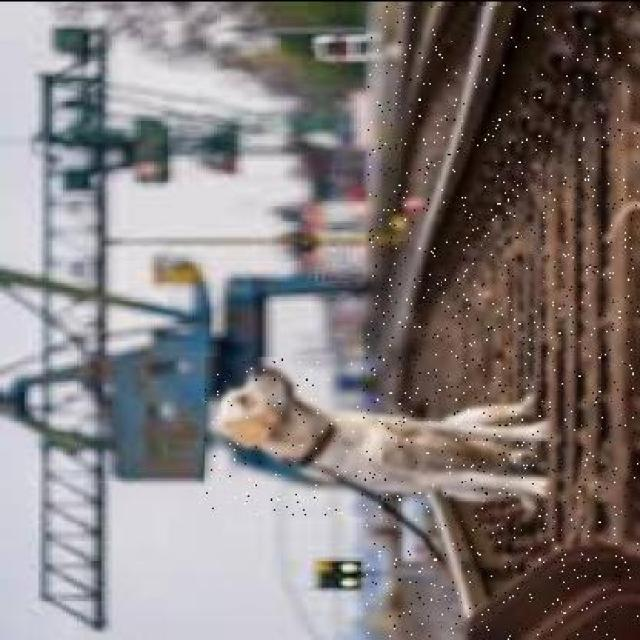rail: (368, 6, 639, 639)
